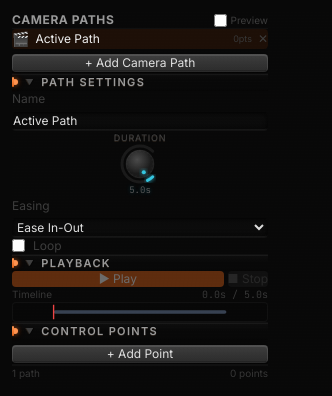
Test: CameraPathEditor › path deletion › clears active path when deleting the active path
Expected: the text "Path Settings" is shown, [41,74,145,90]
Click the button named "Remove Active Path": (263,39) [258,31,268,47]
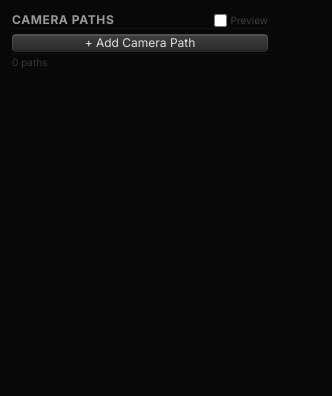
Now the button "Path Settings" is gone
